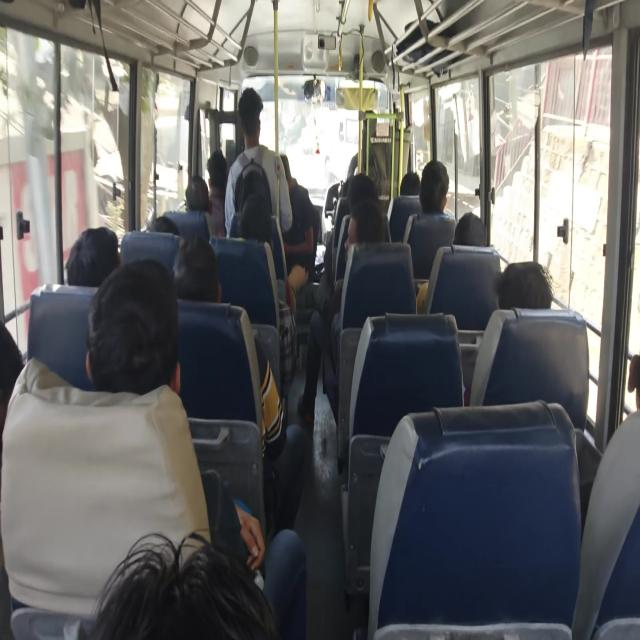person: (124, 537, 270, 640), (91, 274, 175, 366), (266, 151, 315, 306), (74, 223, 131, 315), (613, 318, 640, 444), (460, 215, 500, 289), (232, 202, 280, 258), (234, 93, 275, 152), (174, 243, 214, 301), (352, 160, 394, 214), (512, 256, 556, 304), (155, 202, 186, 250), (346, 172, 391, 202), (431, 153, 454, 211), (211, 148, 238, 195), (356, 215, 389, 247), (181, 178, 214, 205), (411, 160, 427, 198), (244, 180, 268, 205)
